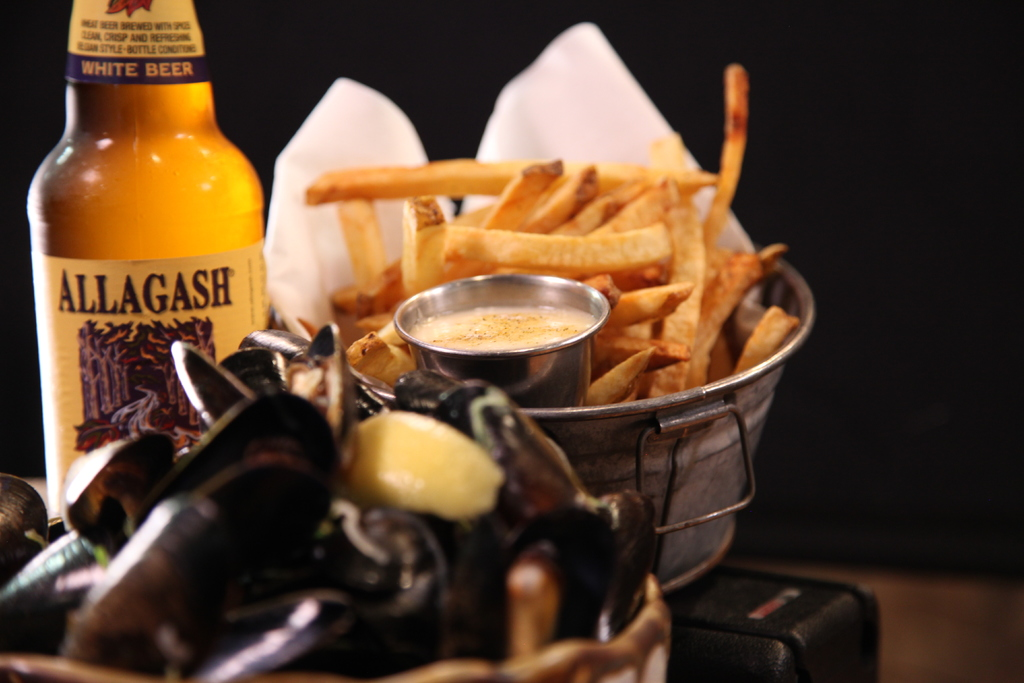French fries: (297, 121, 803, 338)
